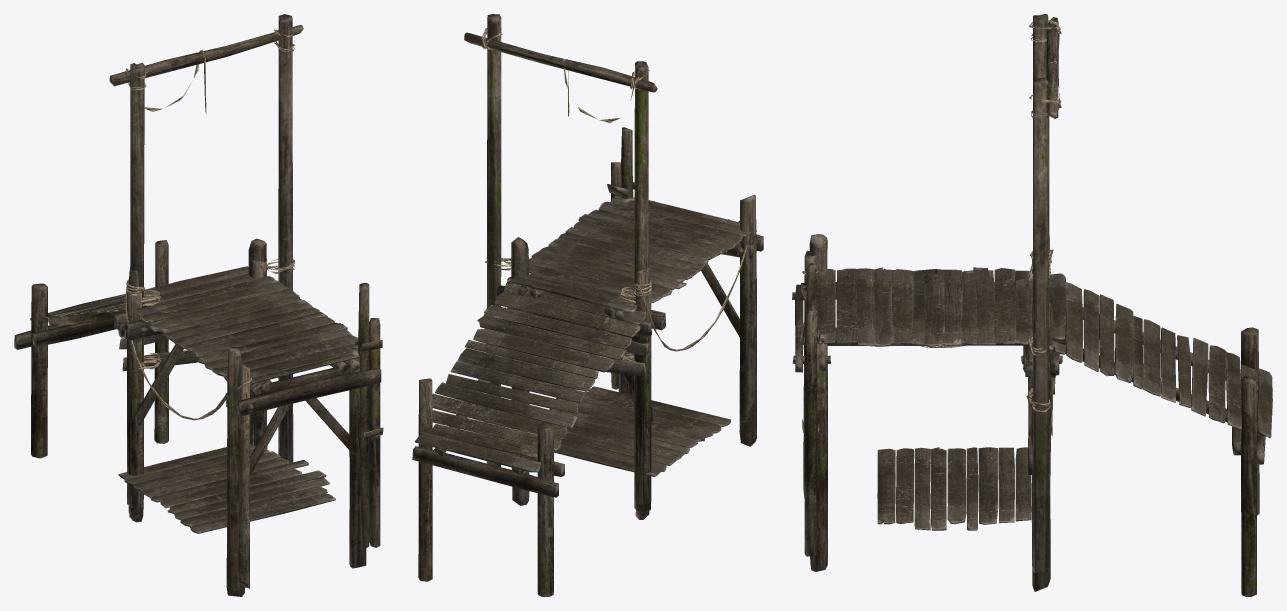
The model's file is pier_kit_lod1.glb.
The picture shows the model from 3 angles, left to right: view 1: azimuth 30°, elevation 25°; view 2: azimuth 150°, elevation 25°; view 3: azimuth 270°, elevation 25°; orthographic projection. The views are drawn at different scales.
Parts seen in each view (by area): view 1: pier_section_01, pier_section_05, pier_planks, pier_section_03, pier_section_02, pier_section_04, pier_poles; view 2: pier_section_04, pier_section_01, pier_section_05, pier_section_03, pier_planks, pier_section_02, pier_poles; view 3: pier_section_04, pier_section_01, pier_planks, pier_section_05, pier_section_03, pier_section_02, pier_poles.
Boxes of the visible parts, box(x1,y1,x2,y2) form: pier_section_01: box(118, 261, 383, 588); pier_section_05: box(109, 14, 303, 506); pier_planks: box(118, 444, 335, 533); pier_section_03: box(114, 238, 357, 507); pier_section_02: box(114, 271, 357, 504); pier_section_04: box(14, 240, 263, 518); pier_poles: box(131, 347, 366, 596); pier_section_04: box(412, 257, 650, 596); pier_section_01: box(507, 127, 763, 512); pier_section_05: box(464, 14, 657, 466); pier_section_03: box(496, 203, 741, 504); pier_planks: box(554, 386, 730, 476); pier_section_02: box(500, 201, 741, 505); pier_poles: box(618, 194, 756, 519); pier_section_04: box(1032, 281, 1272, 596); pier_section_01: box(792, 235, 1062, 562); pier_planks: box(877, 447, 1032, 530); pier_section_05: box(1026, 14, 1061, 572); pier_section_03: box(806, 267, 1067, 568); pier_section_02: box(803, 259, 1065, 591); pier_poles: box(809, 234, 827, 571).
Size of the model in its own units: 3.07 by 7.51 by 6.19.
Materials: 2 (2 with a texture image).
